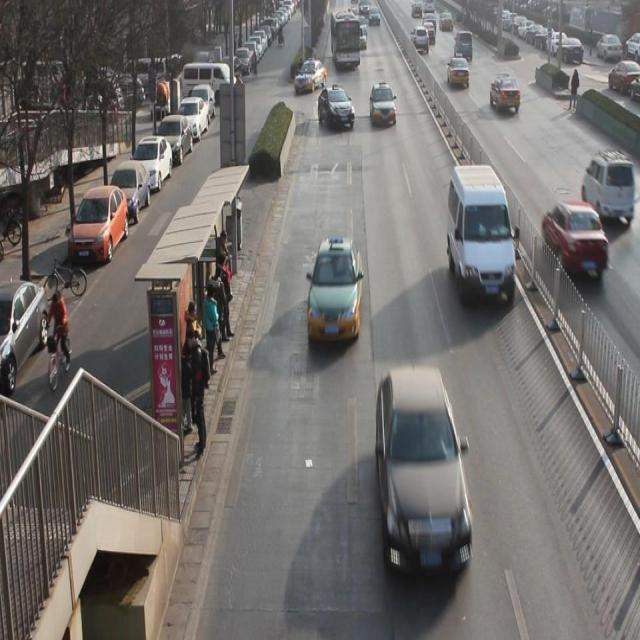car: (377, 372, 473, 568), (311, 234, 362, 342), (586, 149, 640, 223), (545, 204, 601, 271), (323, 84, 355, 131), (491, 72, 522, 114), (370, 84, 395, 122), (448, 59, 473, 90), (302, 61, 324, 91), (412, 26, 431, 53), (456, 32, 475, 58), (423, 19, 439, 45), (355, 25, 367, 53)
truck: (450, 166, 515, 306)
